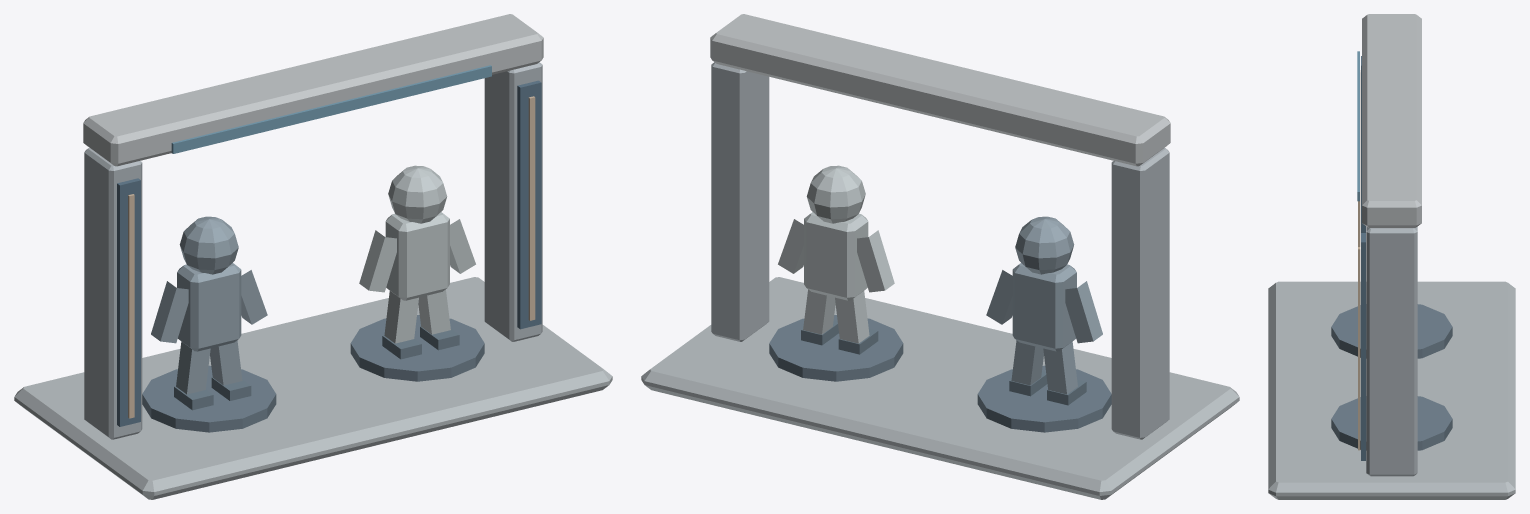
File: forge.glb
3 renders of one model, left to right at view 1: azimuth 30°, elevation 25°; view 2: azimuth 150°, elevation 25°; view 3: azimuth 270°, elevation 25°, orthographic. The views are drawn at different scales.
Parts seen in each view (by area): view 1: forge; view 2: forge; view 3: forge.
Boxes of the visible parts, x1,y1,x2,y2 form: forge: (14,14,612,499); forge: (641,14,1239,499); forge: (1268,14,1515,499).
Bounding box in the file's own units: 11.5 × 7.55 × 5.8.
